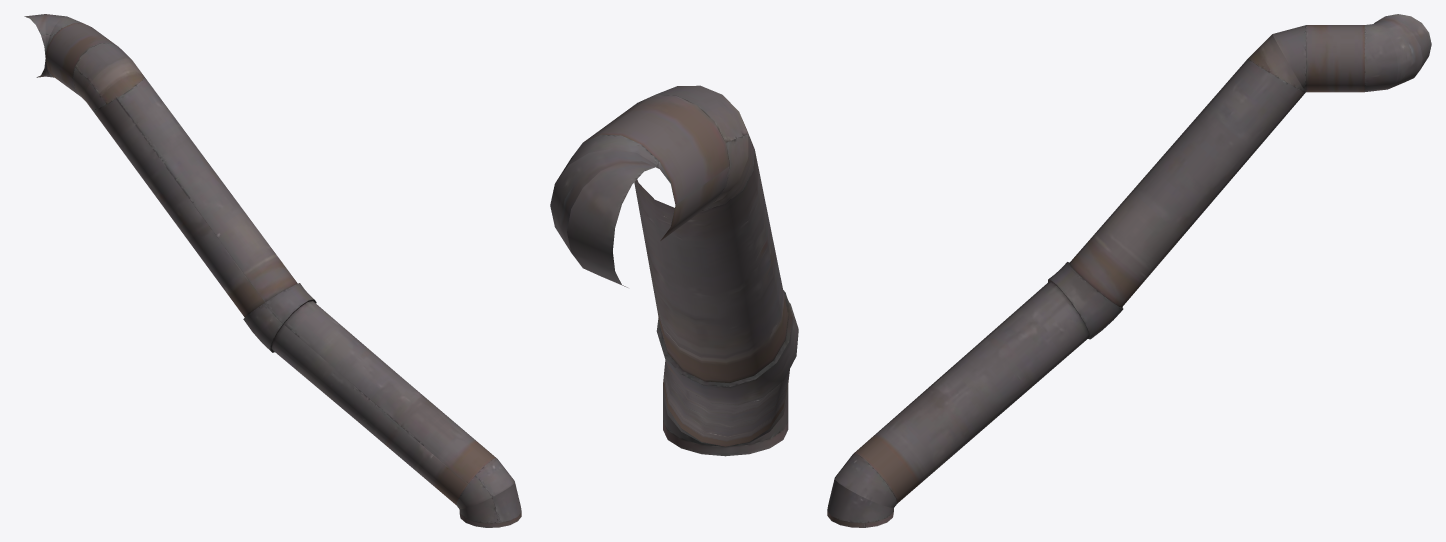
3 views of the same model, side by side, from view 1: azimuth 30°, elevation 25°; view 2: azimuth 150°, elevation 25°; view 3: azimuth 270°, elevation 25° (orthographic). The views are drawn at different scales.
Visible parts, largest first — view 1: body0_model0_lod0_mesh0; view 2: body0_model0_lod0_mesh0; view 3: body0_model0_lod0_mesh0.
Part boxes in pixels (x1=…): body0_model0_lod0_mesh0: x1=24, y1=14, x2=521, y2=527; body0_model0_lod0_mesh0: x1=550, y1=85, x2=798, y2=456; body0_model0_lod0_mesh0: x1=827, y1=14, x2=1431, y2=527.
Size of the model in its own units: 45.84 by 67.25 by 94.46.
Materials: 1 (1 with a texture image).
